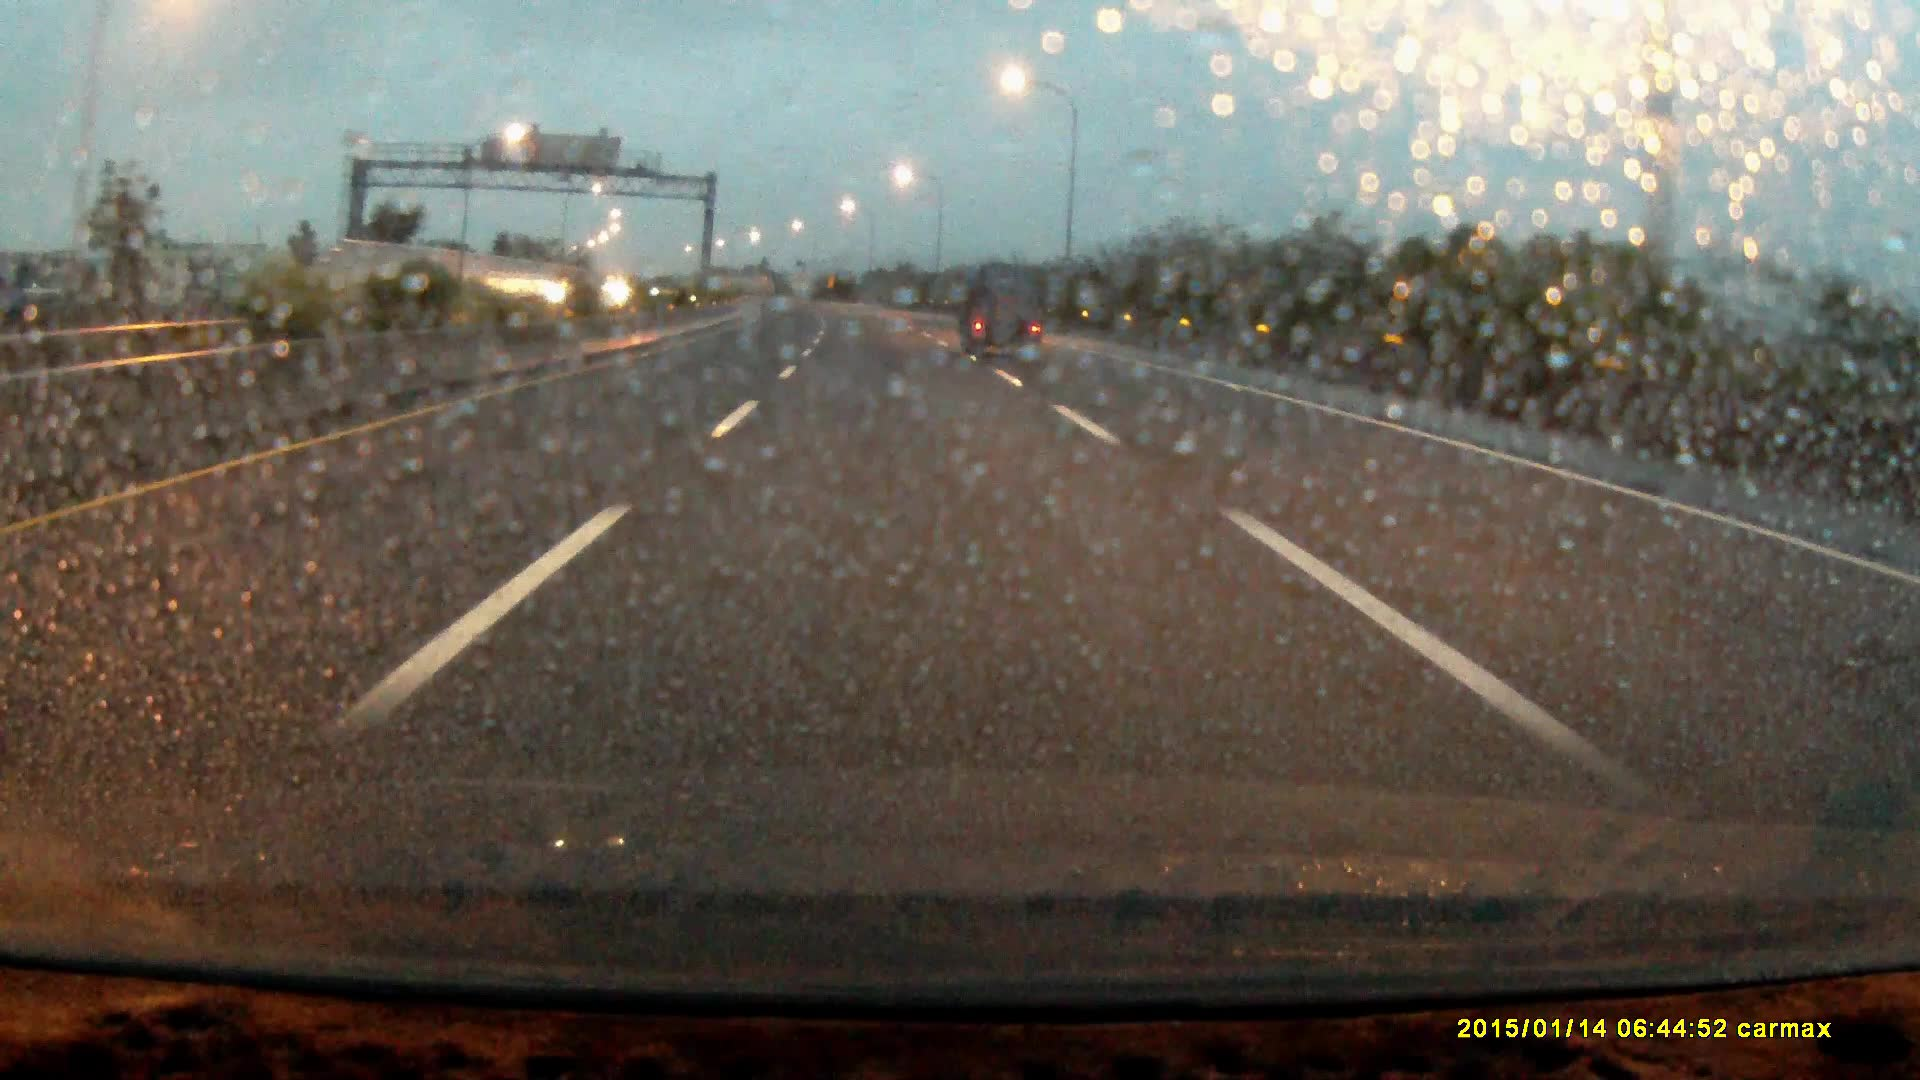vehicle: (963, 273, 1050, 361), (550, 272, 597, 309)
